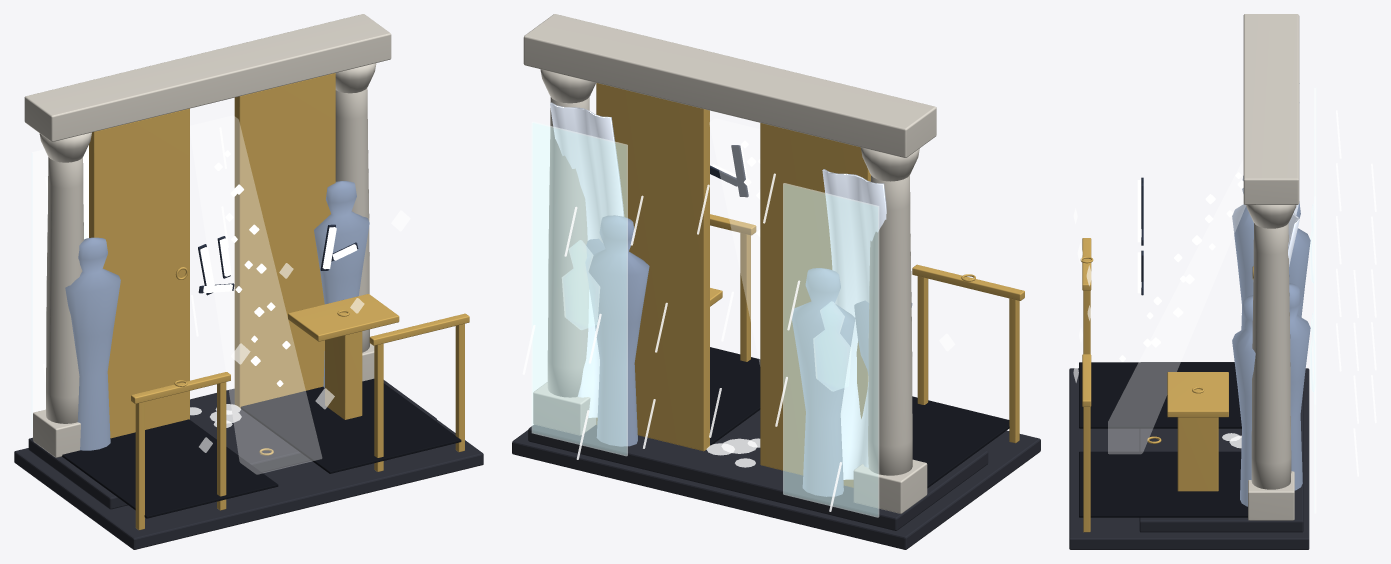
Rendered from webtoon-wind-drape-halfmirror-rain-15pct-v25.glb.
3 views of the same model, side by side, from view 1: azimuth 30°, elevation 25°; view 2: azimuth 150°, elevation 25°; view 3: azimuth 270°, elevation 25° (orthographic). The views are drawn at different scales.
Parts seen in each view (by area): view 1: Articulated_V25Beat1_Linen_DoorsAndIkRig, V25Beat1_Linen_PortalColonnade, Volumetric_V25Beat1_Linen_GodRaySlit, ShadowDrift_V25Beat1_Linen_UmbraMask, V25Beat1_Linen_DatumDeck, DatumCrowd_V25Beat1_Linen_Silhouettes, HalfMirror_V25Beat1_Linen_FresnelReflection, ZDepthSFX_V25Beat1_Linen_GlyphCore, Atmospheric_V25Beat1_Linen_FgBokehLayer, Atmospheric_V25Beat1_Linen_MidMotes, ZDepthSFX_V25Beat1_Linen_ShadowPlate; view 2: HalfMirror_V25Beat1_Linen_FresnelReflection, Articulated_V25Beat1_Linen_DoorsAndIkRig, V25Beat1_Linen_PortalColonnade, V25Beat1_Linen_DatumDeck, DatumCrowd_V25Beat1_Linen_Silhouettes, WindDrape_V25Beat1_Linen_CatenaryPair, ShadowDrift_V25Beat1_Linen_UmbraMask, Volumetric_V25Beat1_Linen_GodRaySlit, Weather_V25Beat1_Linen_ExteriorOccluded, Weather_V25Beat1_Linen_IndoorWetRipples, ZDepthSFX_V25Beat1_Linen_ShadowPlate; view 3: V25Beat1_Linen_PortalColonnade, ShadowDrift_V25Beat1_Linen_UmbraMask, V25Beat1_Linen_DatumDeck, Volumetric_V25Beat1_Linen_GodRaySlit, Articulated_V25Beat1_Linen_DoorsAndIkRig, DatumCrowd_V25Beat1_Linen_Silhouettes, HalfMirror_V25Beat1_Linen_FresnelReflection, Weather_V25Beat1_Linen_ExteriorOccluded, Atmospheric_V25Beat1_Linen_MidMotes, ZDepthSFX_V25Beat1_Linen_GlyphCore.
Part boxes in pixels (box(x1,y1,x2,y2)): Articulated_V25Beat1_Linen_DoorsAndIkRig: box(89, 73, 469, 530); V25Beat1_Linen_PortalColonnade: box(24, 14, 391, 457); Volumetric_V25Beat1_Linen_GodRaySlit: box(190, 115, 321, 474); ShadowDrift_V25Beat1_Linen_UmbraMask: box(62, 378, 461, 518); V25Beat1_Linen_DatumDeck: box(14, 380, 483, 549); DatumCrowd_V25Beat1_Linen_Silhouettes: box(65, 181, 369, 450); HalfMirror_V25Beat1_Linen_FresnelReflection: box(31, 149, 48, 428); ZDepthSFX_V25Beat1_Linen_GlyphCore: box(200, 227, 357, 293); Atmospheric_V25Beat1_Linen_FgBokehLayer: box(199, 210, 410, 452); Atmospheric_V25Beat1_Linen_MidMotes: box(214, 150, 290, 386); ZDepthSFX_V25Beat1_Linen_ShadowPlate: box(198, 224, 358, 295); HalfMirror_V25Beat1_Linen_FresnelReflection: box(531, 121, 879, 517); Articulated_V25Beat1_Linen_DoorsAndIkRig: box(596, 83, 1024, 487); V25Beat1_Linen_PortalColonnade: box(523, 14, 936, 513); V25Beat1_Linen_DatumDeck: box(512, 410, 1040, 549); DatumCrowd_V25Beat1_Linen_Silhouettes: box(585, 215, 912, 496); WindDrape_V25Beat1_Linen_CatenaryPair: box(550, 102, 886, 479); ShadowDrift_V25Beat1_Linen_UmbraMask: box(710, 347, 1009, 488); Volumetric_V25Beat1_Linen_GodRaySlit: box(709, 119, 759, 363); Weather_V25Beat1_Linen_ExteriorOccluded: box(522, 173, 841, 511); Weather_V25Beat1_Linen_IndoorWetRipples: box(706, 438, 760, 467); ZDepthSFX_V25Beat1_Linen_ShadowPlate: box(710, 145, 748, 197); V25Beat1_Linen_PortalColonnade: box(1243, 14, 1299, 520); ShadowDrift_V25Beat1_Linen_UmbraMask: box(1079, 362, 1247, 517); V25Beat1_Linen_DatumDeck: box(1069, 362, 1309, 549); Volumetric_V25Beat1_Linen_GodRaySlit: box(1108, 160, 1245, 453); Articulated_V25Beat1_Linen_DoorsAndIkRig: box(1080, 238, 1253, 532); DatumCrowd_V25Beat1_Linen_Silhouettes: box(1232, 175, 1310, 506); HalfMirror_V25Beat1_Linen_FresnelReflection: box(1309, 87, 1316, 513); Weather_V25Beat1_Linen_ExteriorOccluded: box(1336, 110, 1376, 476); Atmospheric_V25Beat1_Linen_MidMotes: box(1119, 172, 1243, 361); ZDepthSFX_V25Beat1_Linen_GlyphCore: box(1137, 180, 1141, 293).
Size of the model in its own units: 2.76 by 2.78 by 2.1.
